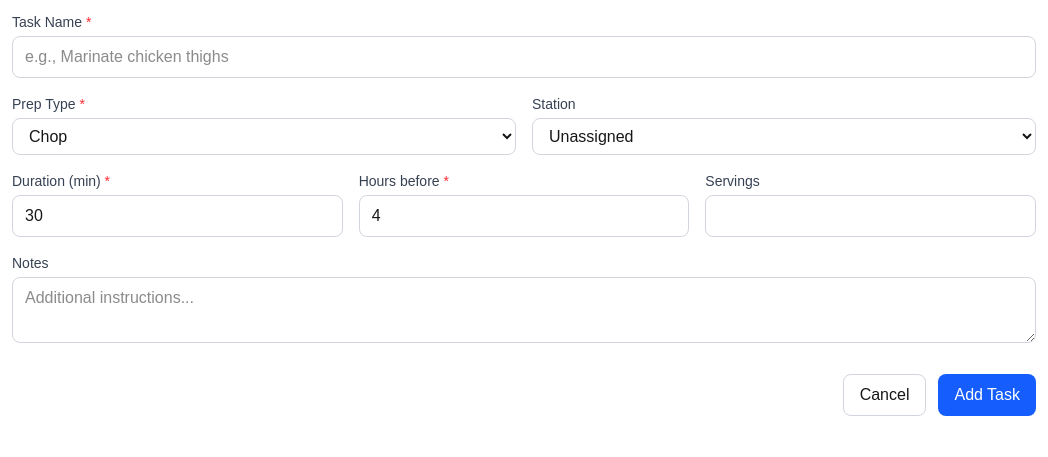
it: ProductionTaskForm › validation › clears field error when user types
The width and height of the screenshot is (1048, 457).
Submit the text "Add Task"
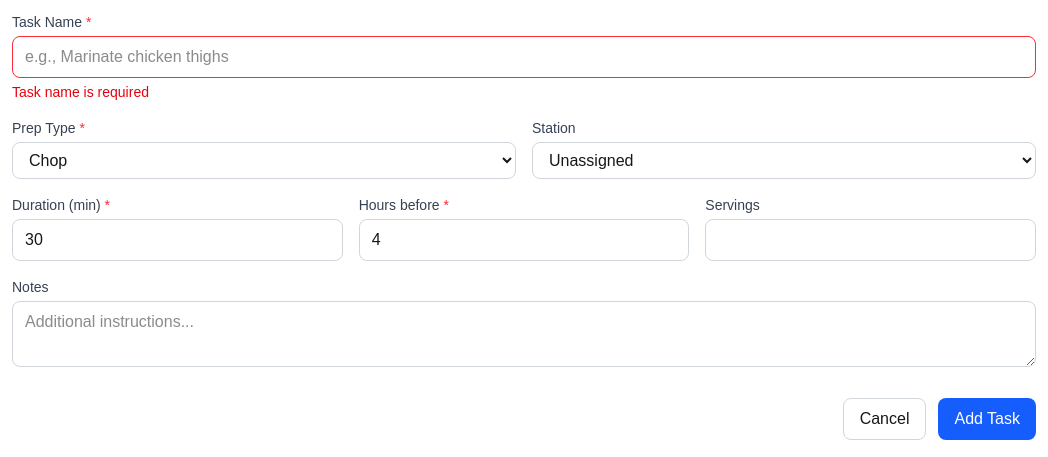
Now the text "Task name is required" is shown, box left=12, top=84, right=149, bottom=100
In the field labelled "Task Name *": (524,57) left=12, top=36, right=1036, bottom=78, type "A"
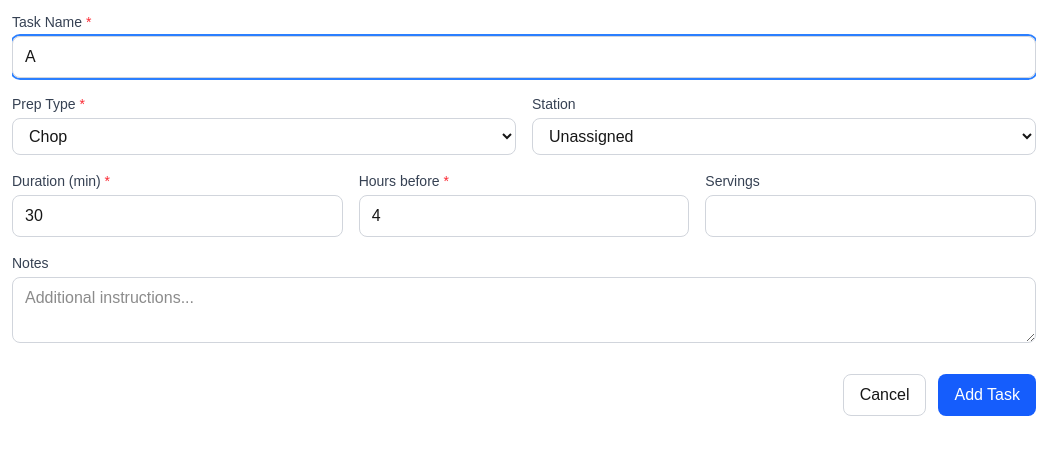
Now the text "Task name is required" is gone
